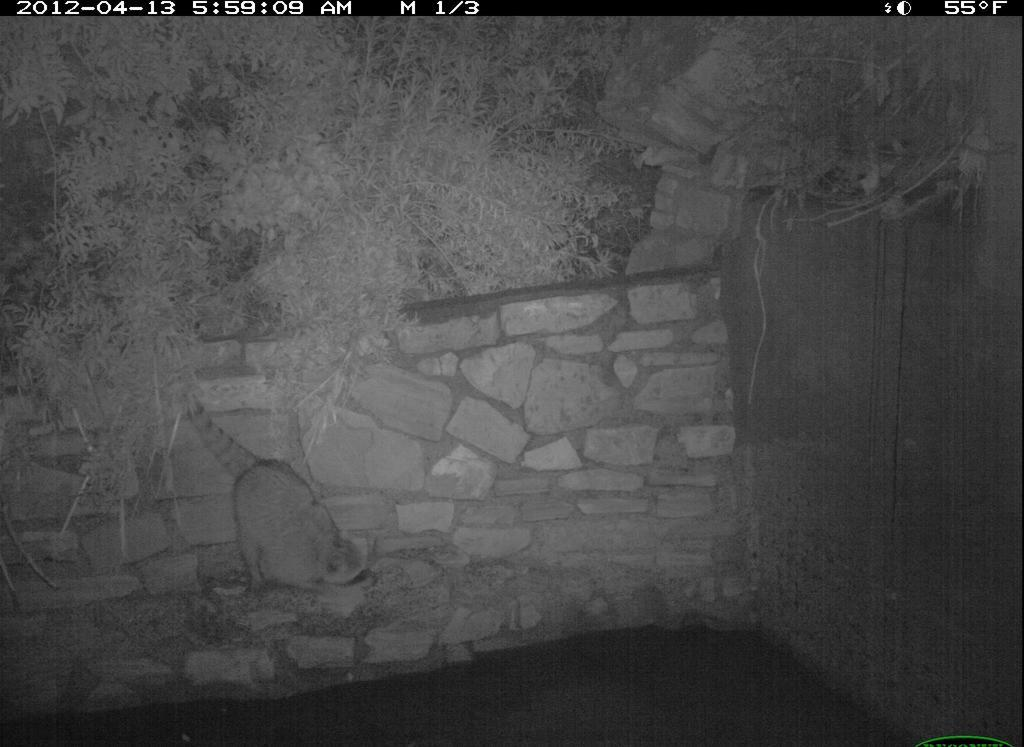raccoon: (176, 387, 381, 602)
